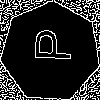P: (25, 27, 72, 63)
